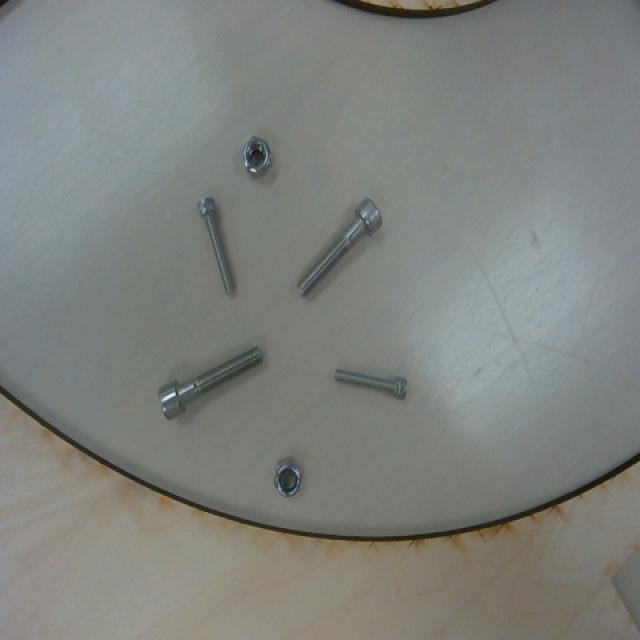Big Bolt: (156, 331, 269, 421), (293, 195, 387, 302)
Metal Nut: (270, 455, 308, 502), (241, 134, 276, 180)
Small Bolt: (193, 192, 243, 302), (332, 358, 414, 410)
